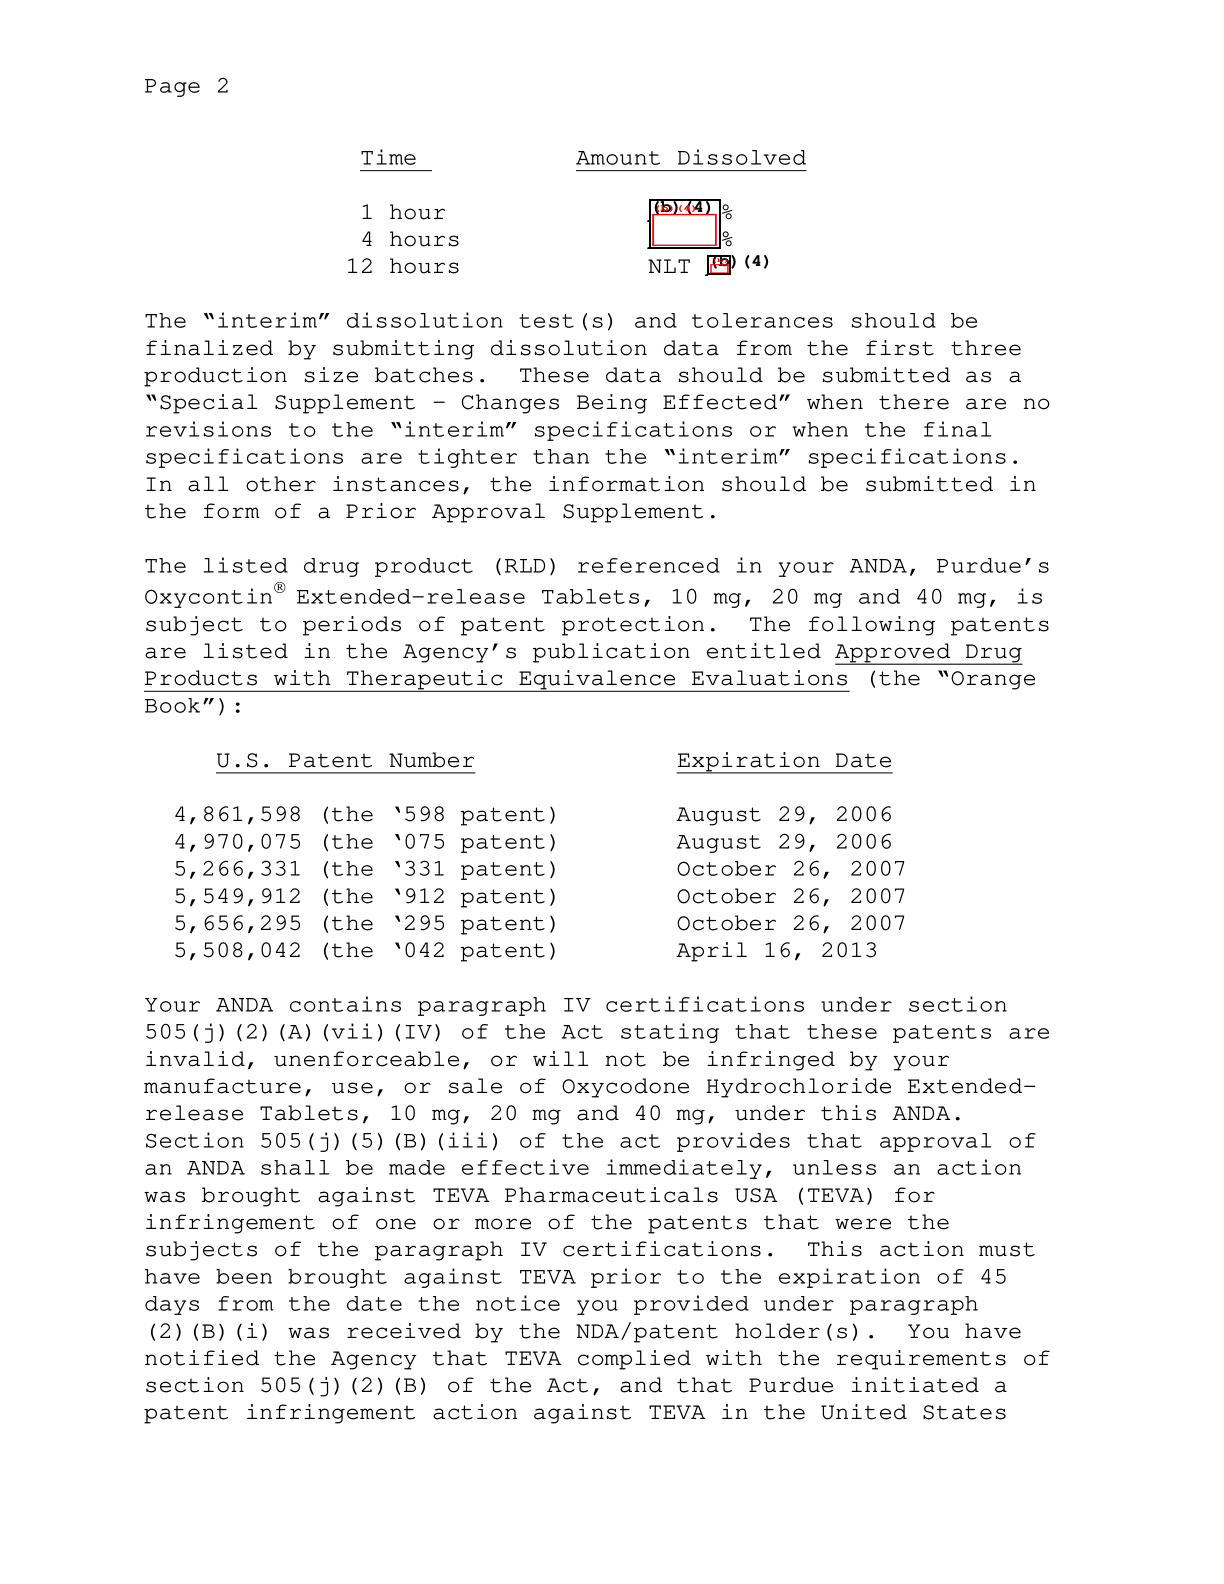nolines: (165, 742, 912, 971), (346, 141, 807, 278)
